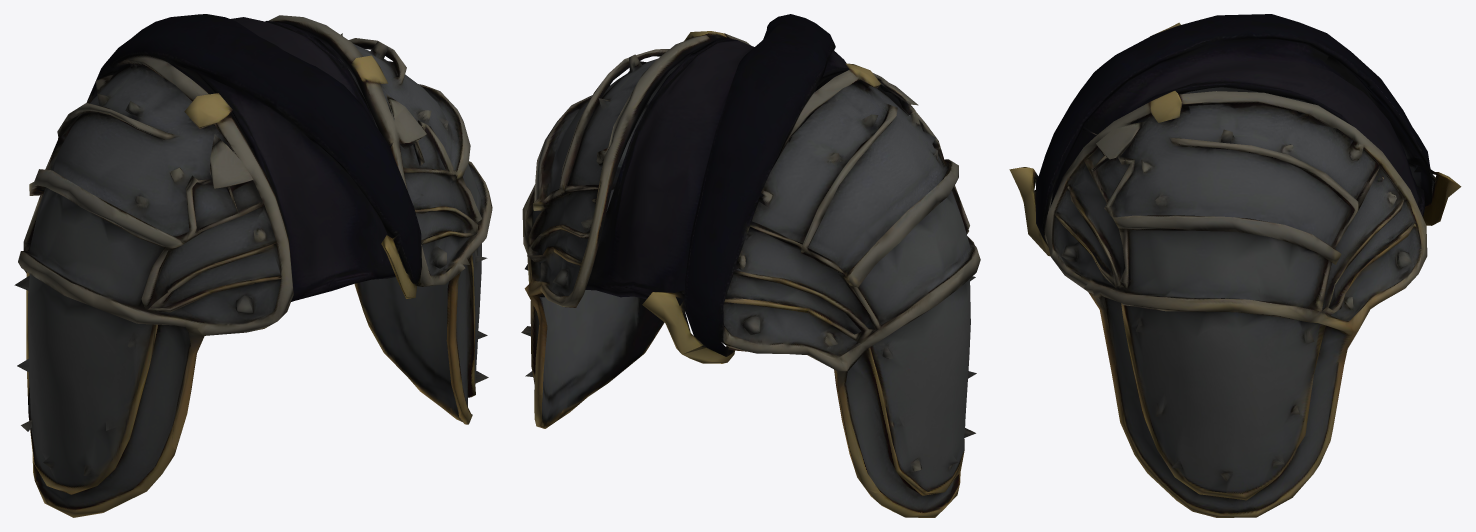
The picture shows the model from 3 angles, left to right: view 1: azimuth 30°, elevation 25°; view 2: azimuth 150°, elevation 25°; view 3: azimuth 270°, elevation 25°; orthographic projection. The views are drawn at different scales.
Parts seen in each view (by area): view 1: tripo_node_ec0d1a96-6cda-4e3b-84b9-71b3f39579b3; view 2: tripo_node_ec0d1a96-6cda-4e3b-84b9-71b3f39579b3; view 3: tripo_node_ec0d1a96-6cda-4e3b-84b9-71b3f39579b3.
Part boxes in pixels (x1,y1,x2,y2): tripo_node_ec0d1a96-6cda-4e3b-84b9-71b3f39579b3: (14,14,492,517); tripo_node_ec0d1a96-6cda-4e3b-84b9-71b3f39579b3: (521,14,980,517); tripo_node_ec0d1a96-6cda-4e3b-84b9-71b3f39579b3: (1009,14,1461,517).
Bounding box in the file's own units: 1 × 0.9664 × 0.9913.
1 material, 1 textured.
